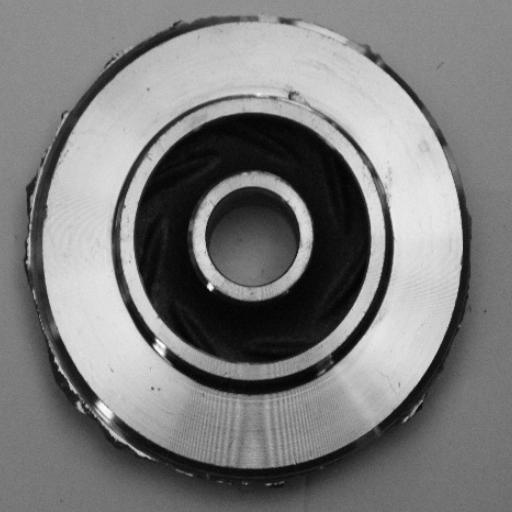casting_with_burr: (19, 9, 474, 493)
crack: (273, 79, 326, 116)
scratch: (143, 331, 180, 368)
